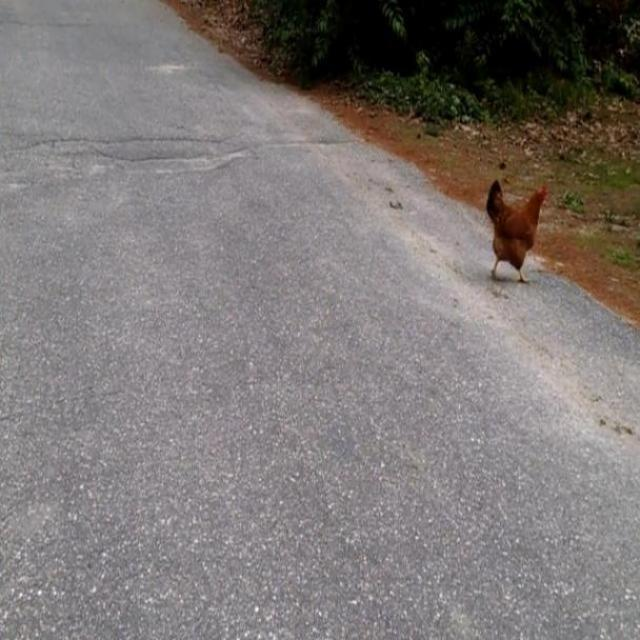Chicken: (486, 179, 549, 286)
